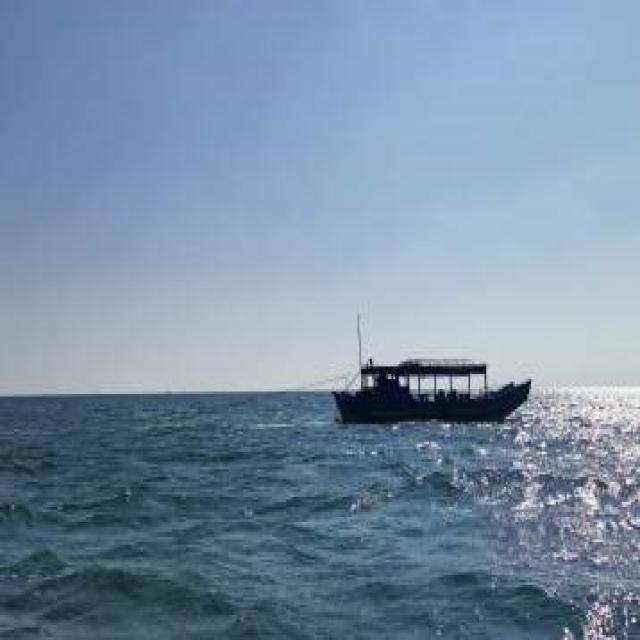fishing boat: (321, 338, 533, 428)
